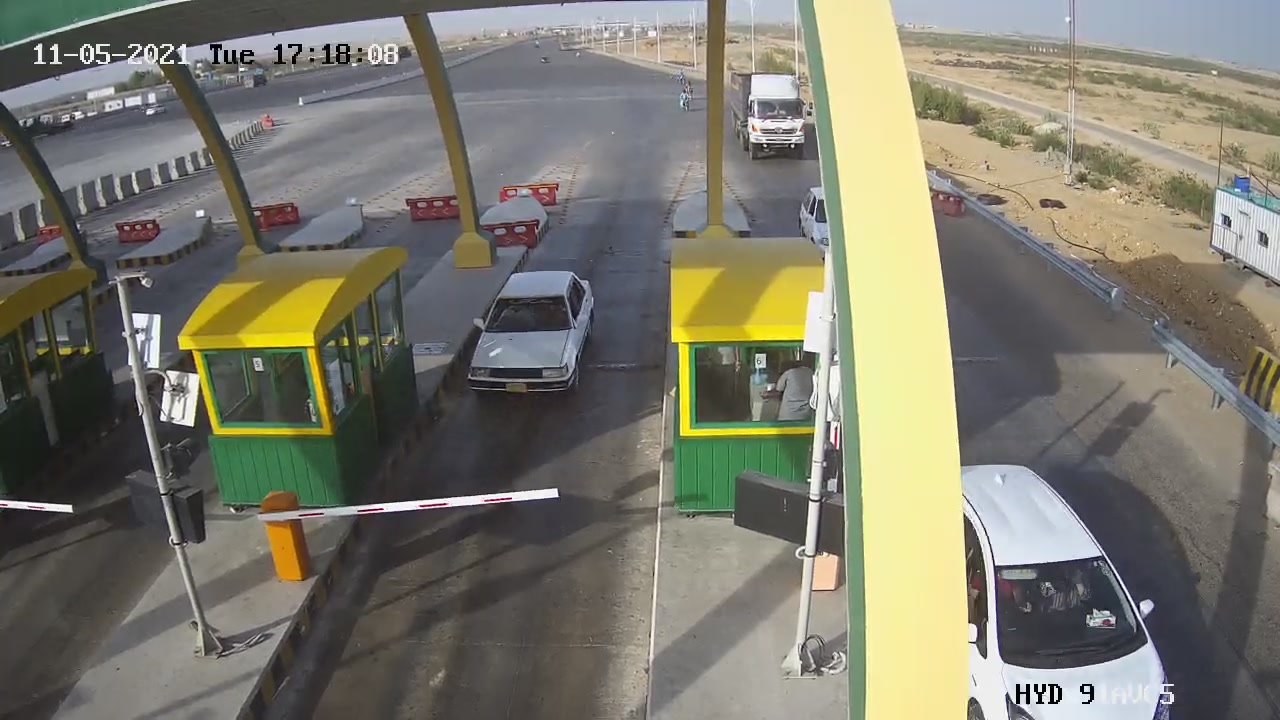F1: (448, 252, 616, 420)
